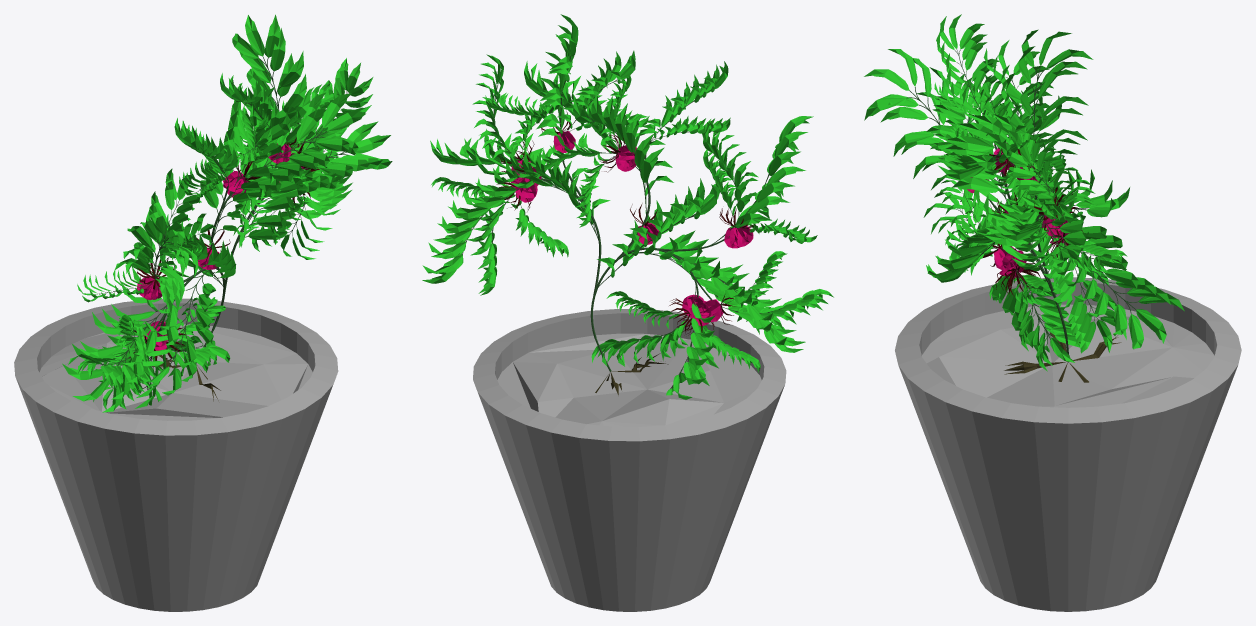
File: plant.obj
3 renders of one model, left to right at view 1: azimuth 30°, elevation 25°; view 2: azimuth 150°, elevation 25°; view 3: azimuth 270°, elevation 25°, orthographic. The views are drawn at different scales.
Visible parts, largest first — view 1: Circle, 1Newplan; view 2: Circle, 1Newplan; view 3: Circle, 1Newplan.
Boxes of the visible parts, left/top/right/bottom form: Circle: left=14, top=298, right=338, bottom=611; 1Newplan: left=62, top=14, right=392, bottom=412; Circle: left=473, top=308, right=786, bottom=611; 1Newplan: left=422, top=14, right=833, bottom=399; Circle: left=895, top=277, right=1241, bottom=611; 1Newplan: left=864, top=14, right=1184, bottom=382.
Size of the model in its own units: 5.02 by 7.26 by 4.23.
